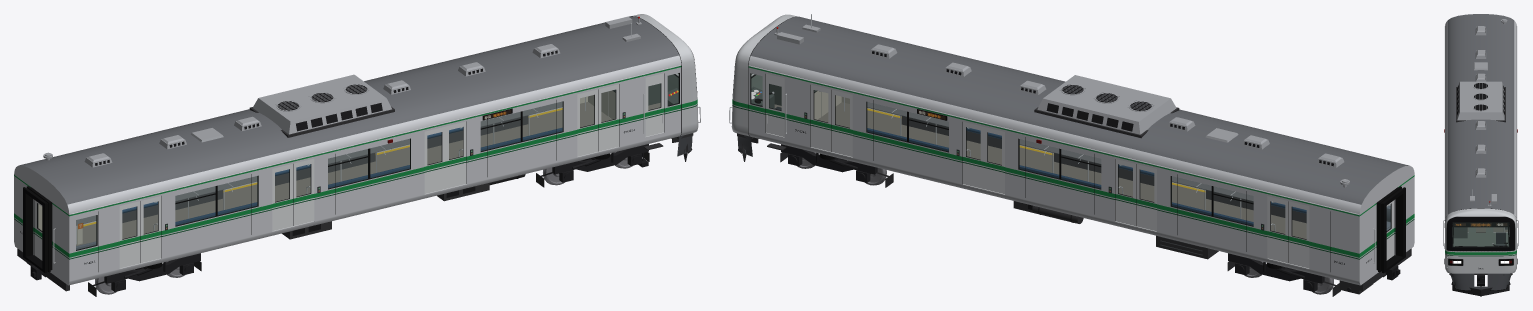
File: r122_Tc_near.glb
The picture shows the model from 3 angles, left to right: view 1: azimuth 30°, elevation 25°; view 2: azimuth 150°, elevation 25°; view 3: azimuth 270°, elevation 25°; orthographic projection. The views are drawn at different scales.
Parts seen in each view (by area): view 1: body_shell, ext_windows, interior_shell, opt_ac, interior_seats, end_R, front_mask, interior_racks, bogie_front, roof_vents, bogie_rear, ext_fittings_signs (+11 smaller); view 2: body_shell, ext_windows, interior_shell, opt_ac, interior_seats, end_R, front_mask, underfloor, roof_vents, bogie_rear, bogie_front, interior_racks (+13 smaller); view 3: body_shell, front_mask, opt_ac, front_glass_displays, front_skirt_coupler, roof_vents, interior_partition, ext_fittings_signs, interior_cab, opt_snow_plow, cab_door, roof_equipment (+4 smaller).
Boxes of the visible parts, x1=… form: body_shell: x1=14, y1=16, x2=681, y2=285; ext_windows: x1=76, y1=73, x2=678, y2=250; interior_shell: x1=34, y1=73, x2=679, y2=268; opt_ac: x1=249, y1=74, x2=394, y2=137; interior_seats: x1=76, y1=115, x2=562, y2=249; end_R: x1=20, y1=186, x2=55, y2=273; front_mask: x1=633, y1=14, x2=698, y2=135; interior_racks: x1=76, y1=101, x2=562, y2=225; bogie_front: x1=543, y1=144, x2=648, y2=185; roof_vents: x1=84, y1=44, x2=560, y2=167; bogie_rear: x1=95, y1=253, x2=200, y2=294; ext_fittings_signs: x1=70, y1=65, x2=680, y2=271; body_shell: x1=748, y1=16, x2=1414, y2=285; ext_windows: x1=751, y1=73, x2=1253, y2=225; interior_shell: x1=750, y1=73, x2=1394, y2=268; opt_ac: x1=1034, y1=75, x2=1179, y2=138; interior_seats: x1=867, y1=116, x2=1390, y2=230; end_R: x1=1366, y1=186, x2=1405, y2=273; front_mask: x1=731, y1=14, x2=797, y2=136; underfloor: x1=1013, y1=201, x2=1411, y2=291; roof_vents: x1=869, y1=44, x2=1344, y2=167; bogie_rear: x1=1228, y1=253, x2=1333, y2=294; bogie_front: x1=781, y1=144, x2=886, y2=185; interior_racks: x1=867, y1=102, x2=1253, y2=201; body_shell: x1=1445, y1=14, x2=1516, y2=219; front_mask: x1=1445, y1=208, x2=1516, y2=273; opt_ac: x1=1456, y1=81, x2=1505, y2=122; front_glass_displays: x1=1452, y1=222, x2=1509, y2=268; front_skirt_coupler: x1=1449, y1=273, x2=1512, y2=290; roof_vents: x1=1475, y1=26, x2=1486, y2=177; interior_partition: x1=1453, y1=227, x2=1509, y2=246; ext_fittings_signs: x1=1444, y1=26, x2=1517, y2=219; interior_cab: x1=1452, y1=227, x2=1509, y2=265; opt_snow_plow: x1=1451, y1=280, x2=1510, y2=296; cab_door: x1=1473, y1=227, x2=1488, y2=246; roof_equipment: x1=1470, y1=62, x2=1496, y2=206.
Size of the model in its own units: 20.17 by 4.13 by 3.08.
64 materials, 12 textured.
